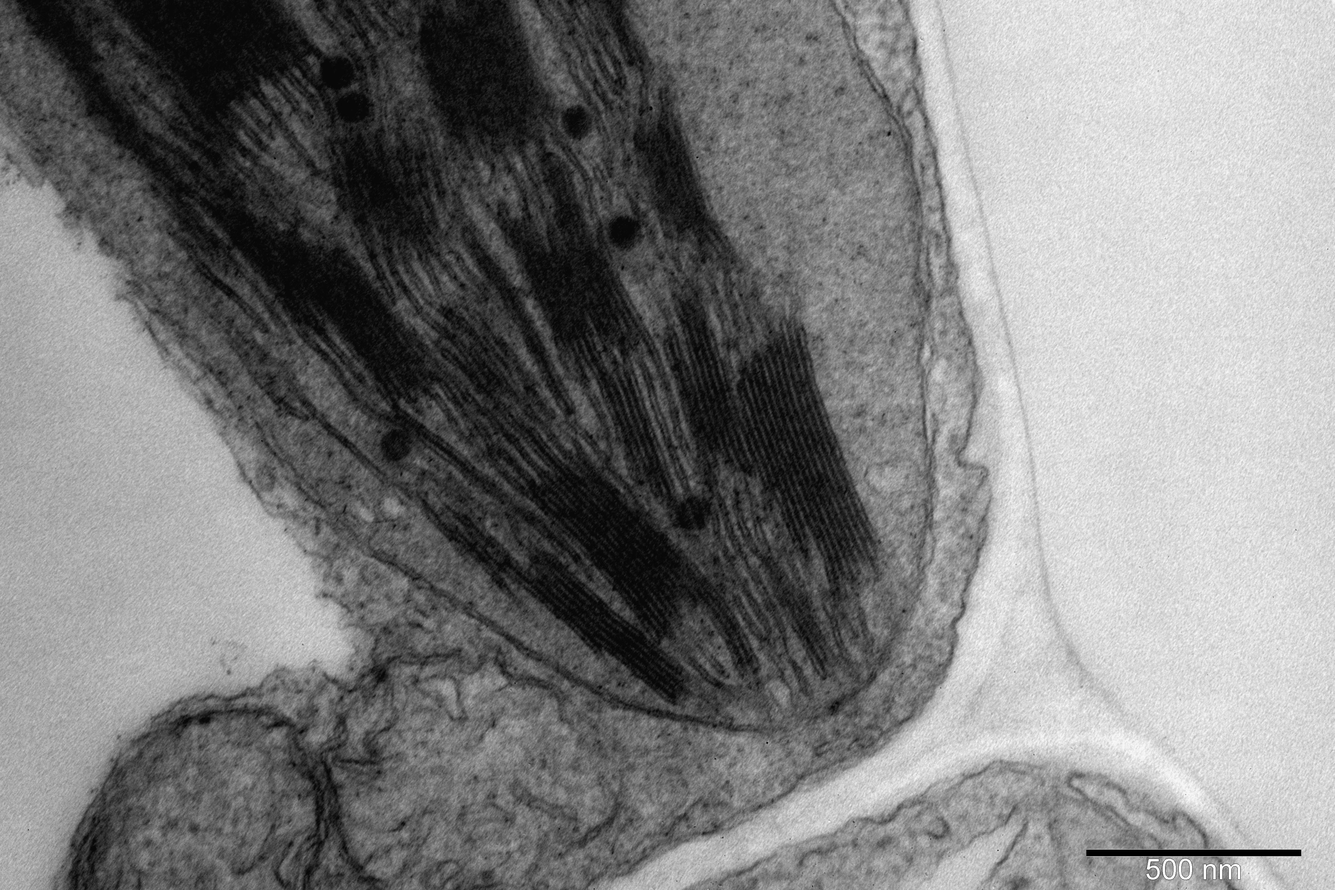granum: (523, 449, 764, 680), (210, 198, 441, 409), (735, 324, 883, 593), (495, 150, 651, 372), (518, 550, 692, 703), (103, 0, 315, 125), (416, 0, 554, 146), (660, 283, 756, 476), (630, 102, 737, 263), (320, 126, 439, 256), (598, 364, 677, 502), (762, 565, 843, 679), (447, 510, 513, 584), (603, 10, 655, 68)
